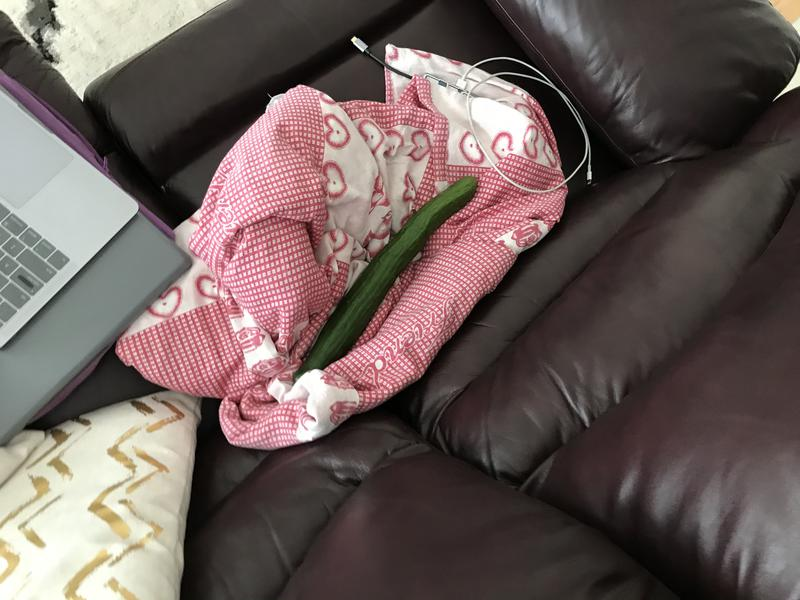cucumber: (291, 168, 484, 397)
